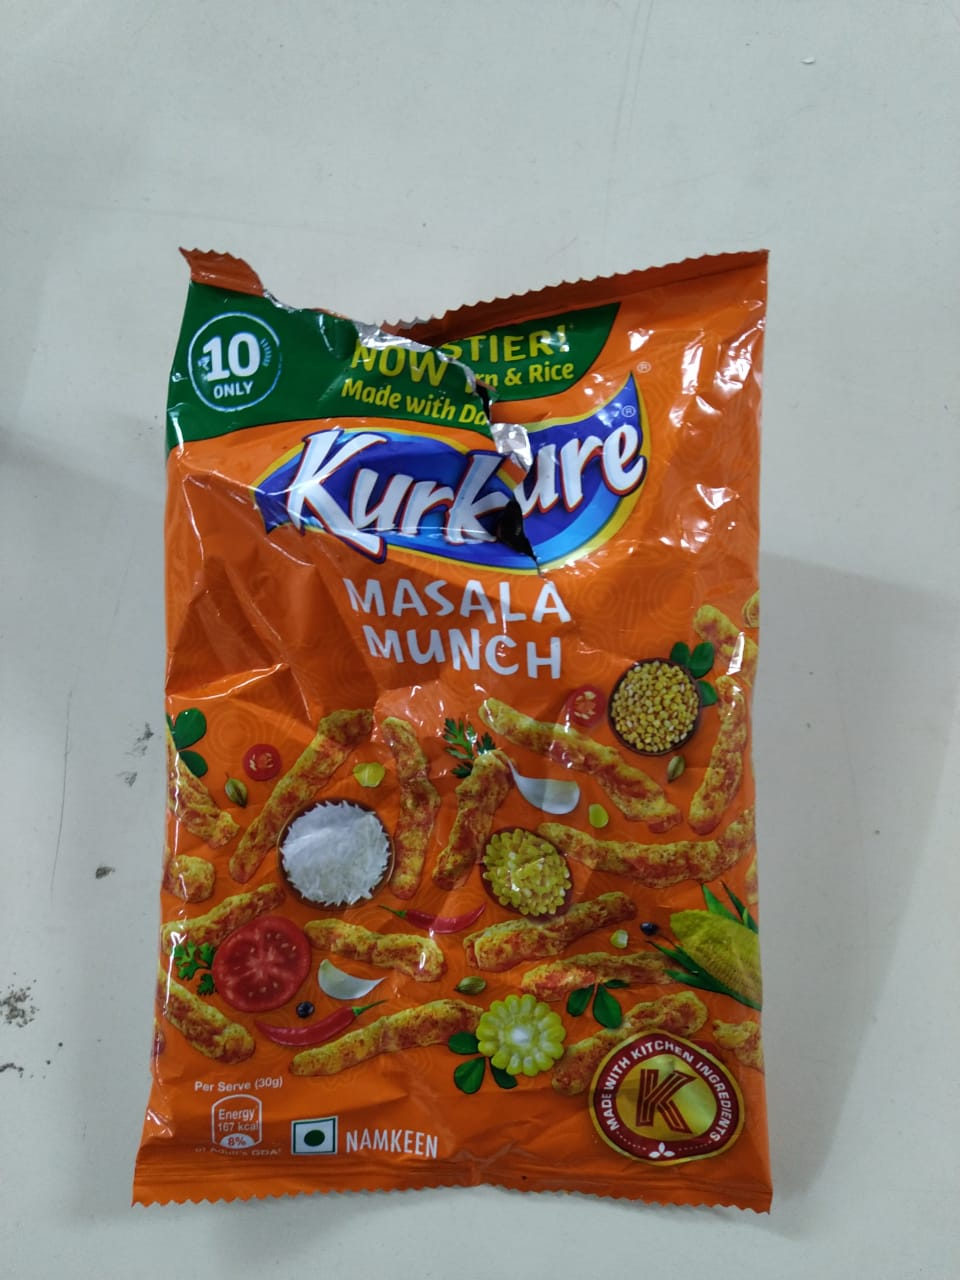kurkure: (257, 381, 668, 596), (253, 360, 674, 547), (412, 362, 672, 541), (280, 411, 557, 574)
plastic: (131, 244, 782, 1208)
wrapper: (145, 248, 781, 1212)
